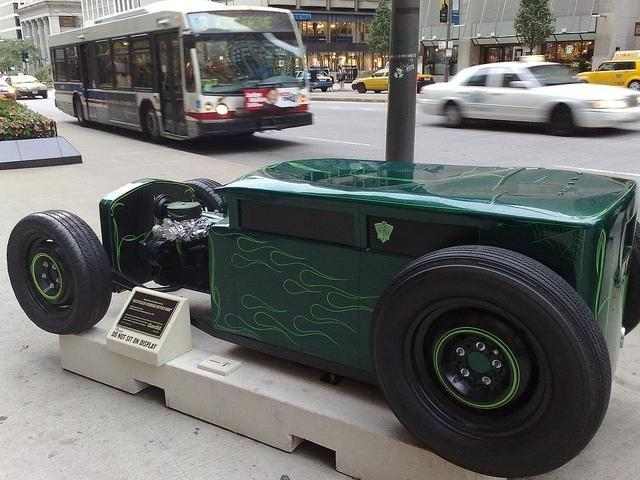bus: (44, 1, 317, 152)
car: (6, 154, 640, 474), (422, 60, 638, 128), (576, 57, 640, 90), (352, 70, 436, 94), (2, 75, 48, 99), (308, 68, 334, 92), (0, 78, 16, 104)
